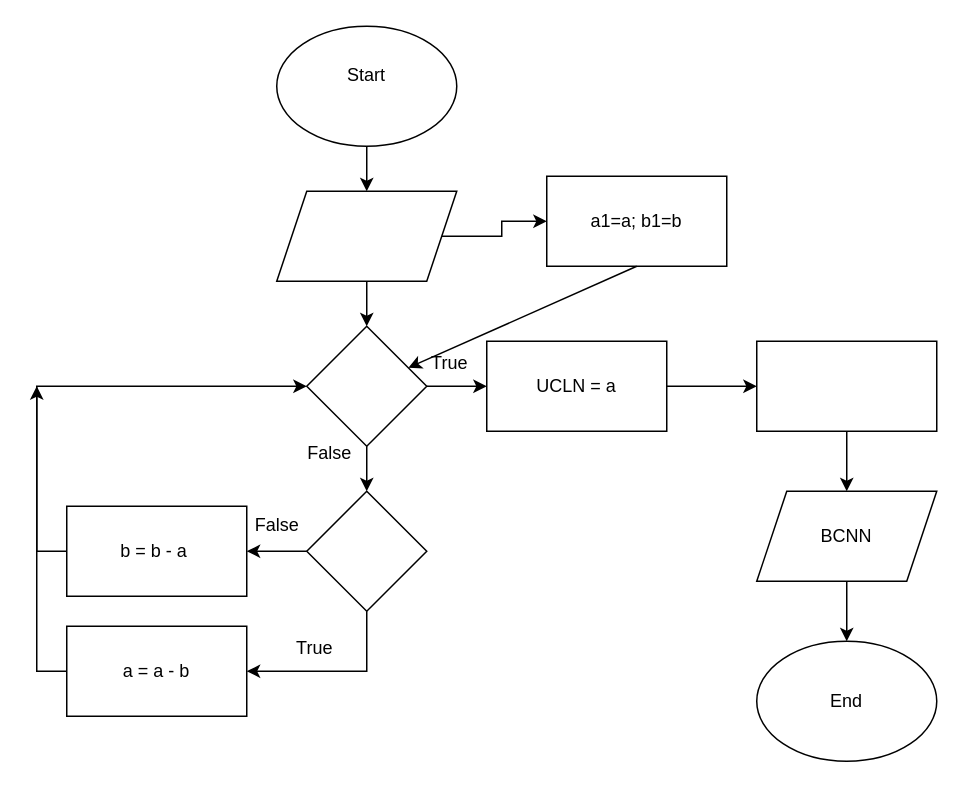
The diagram is 963 pixels wide and 788 high, and some of its shapes have lost their labels. Here are the shapes that lost their labels. From the top down, the centre of each, then its label:
At (366,235): "Nhập a,b".
At (366,385): "a=b".
At (846,385): "BCNN= a1*b1/UCLN".
At (366,550): "a>b".
